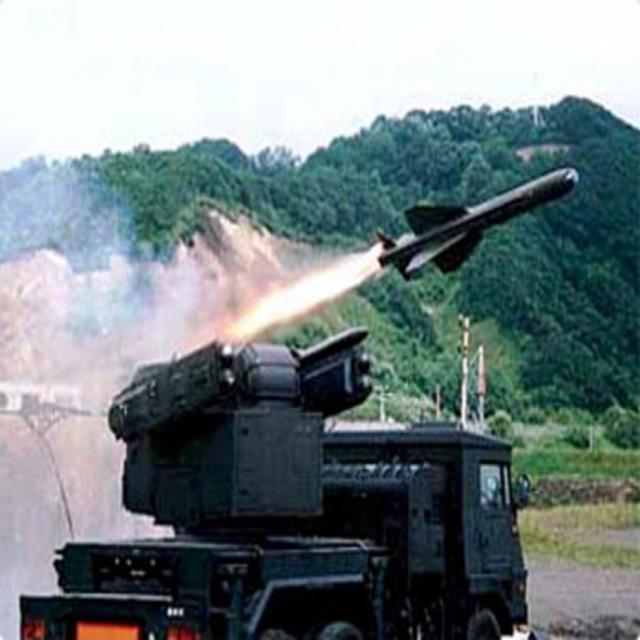missile: (375, 162, 580, 284)
